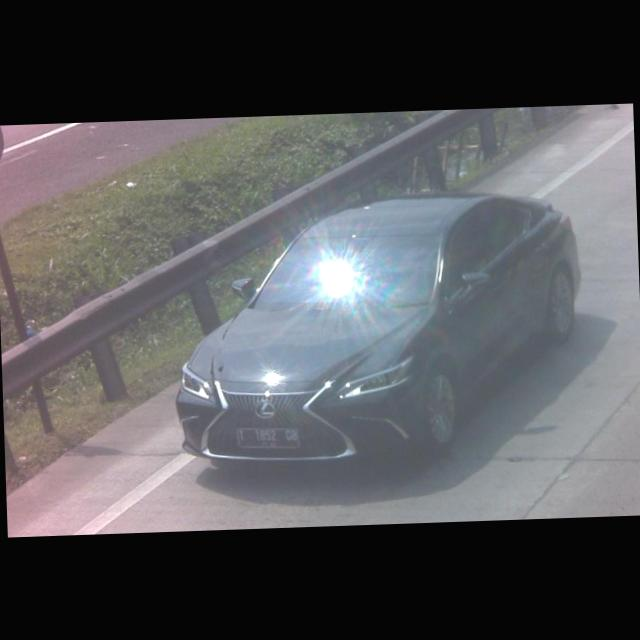plate: (235, 425, 301, 453)
